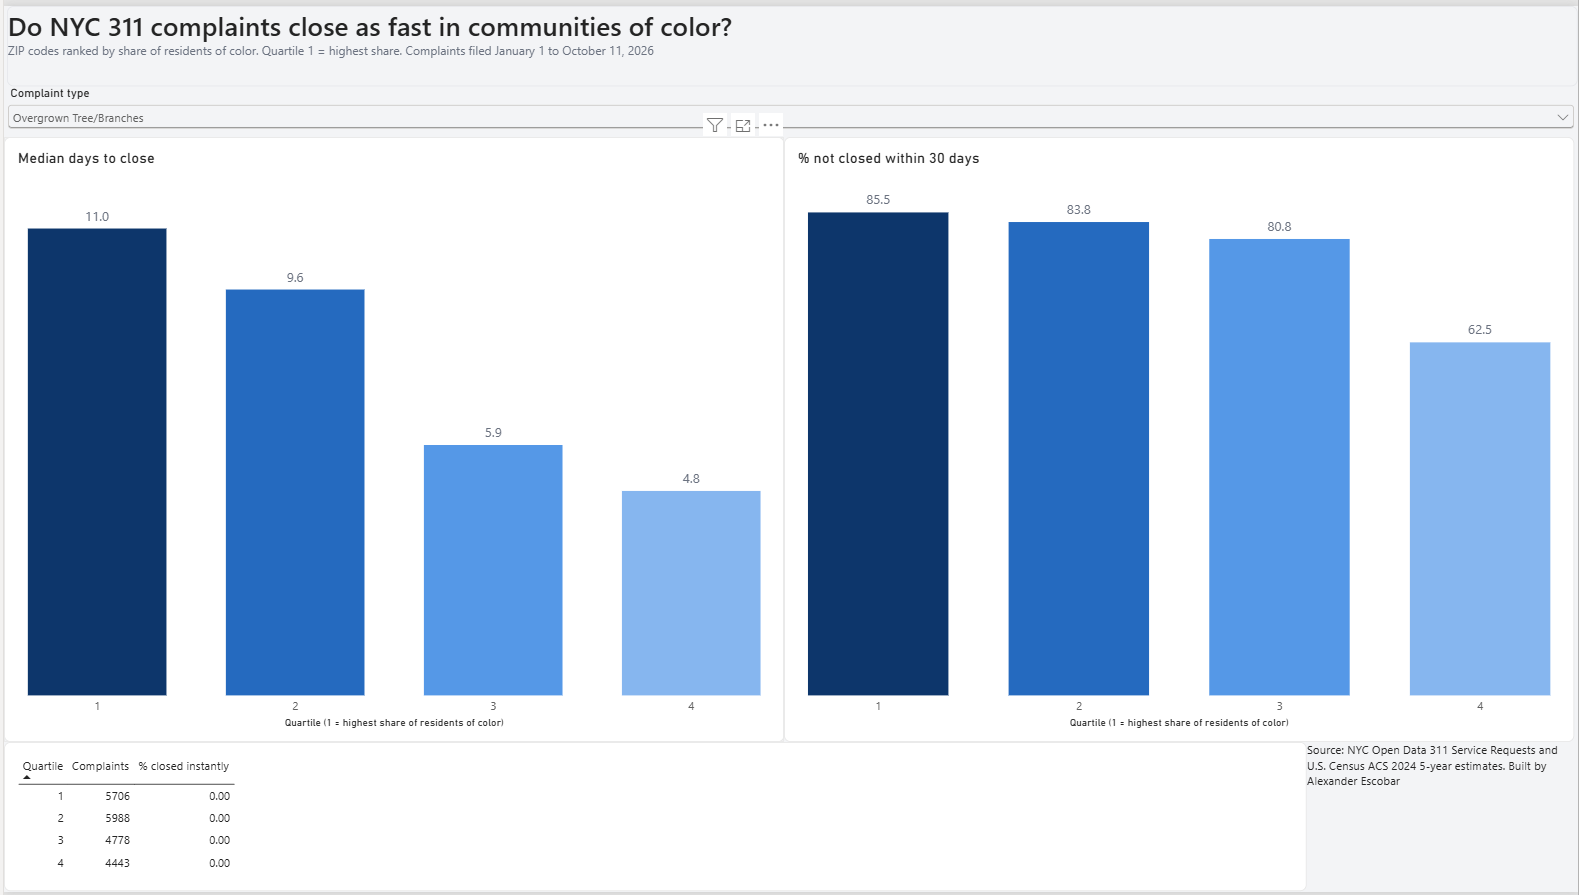

This screenshot's page, from the dashboard's own definition file:
{"tool":"powerbi","page":{"name":"By complaint type","canvas":[1920,1080],"ordinal":0},"visuals":[{"type":"slicer","fields":{"Values":["analytics response_by_quartile_type.complaint_type"]},"box":[0,98.2,1920,61.8],"z":0},{"type":"clusteredColumnChart","title":"Median days to close","fields":{"Category":["analytics response_by_quartile_type.quartile"],"Y":["Avg(analytics response_by_quartile_type.median_days_to_close)"]},"box":[0,160,951.9,738.2],"z":1000},{"type":"clusteredColumnChart","title":"% not closed within 30 days","fields":{"Category":["analytics response_by_quartile_type.quartile"],"Y":["Avg(analytics response_by_quartile_type.pct_not_closed_in_30_days)"]},"box":[951.9,160,964,738.2],"z":2000},{"type":"tableEx","fields":{"Values":["analytics response_by_quartile_type.quartile","Sum(analytics response_by_quartile_type.complaint_count)","Avg(analytics response_by_quartile_type.pct_closed_instantly)"]},"box":[0,898.2,1589.2,181.5],"z":3000},{"type":"textbox","box":[4,0,1916,98.2],"z":4000},{"type":"textbox","box":[1589.2,898.2,326.7,181.5],"z":5000}]}

Visuals, with their boxes in screenshot pixels (x1, y1, x2, y2), scaled from the page's 1920x1080 canvas onto the 1584x895 screenshot:
slicer - analytics response_by_quartile_type.complaint_type: pyautogui.locateOnScreen(0, 81, 1583, 133)
"Median days to close" clusteredColumnChart: pyautogui.locateOnScreen(0, 133, 785, 744)
"% not closed within 30 days" clusteredColumnChart: pyautogui.locateOnScreen(785, 133, 1581, 744)
tableEx - analytics response_by_quartile_type.quartile x Sum(analytics response_by_quartile_type.complaint_count): pyautogui.locateOnScreen(0, 744, 1311, 894)
textbox: pyautogui.locateOnScreen(3, 0, 1583, 81)
textbox: pyautogui.locateOnScreen(1311, 744, 1581, 894)
